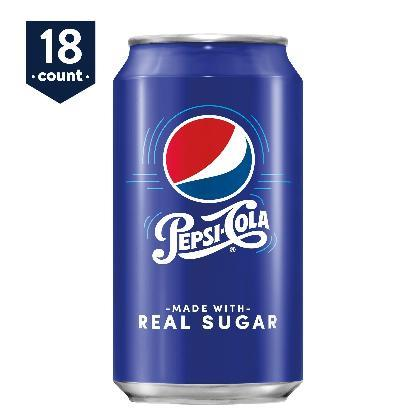Can: (112, 32, 304, 410)
